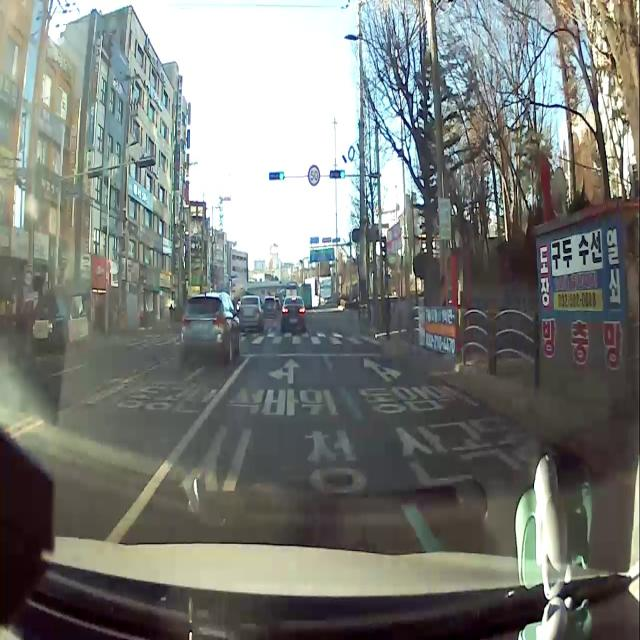Green Light: (278, 171, 285, 181), (340, 170, 345, 179)
